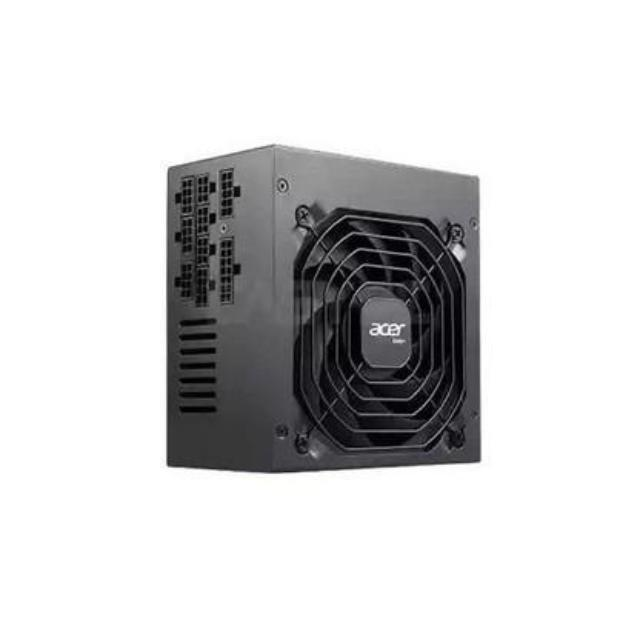PSU: (160, 136, 488, 484)
